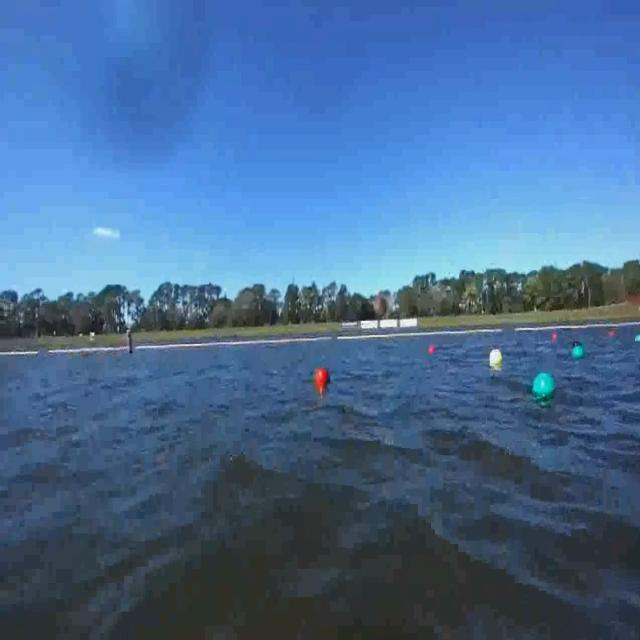green-buoy: (534, 371, 557, 397), (572, 345, 584, 360), (634, 335, 640, 345)
red-buoy: (319, 368, 333, 386), (430, 342, 435, 351)
yellow-buoy: (489, 350, 503, 366)
